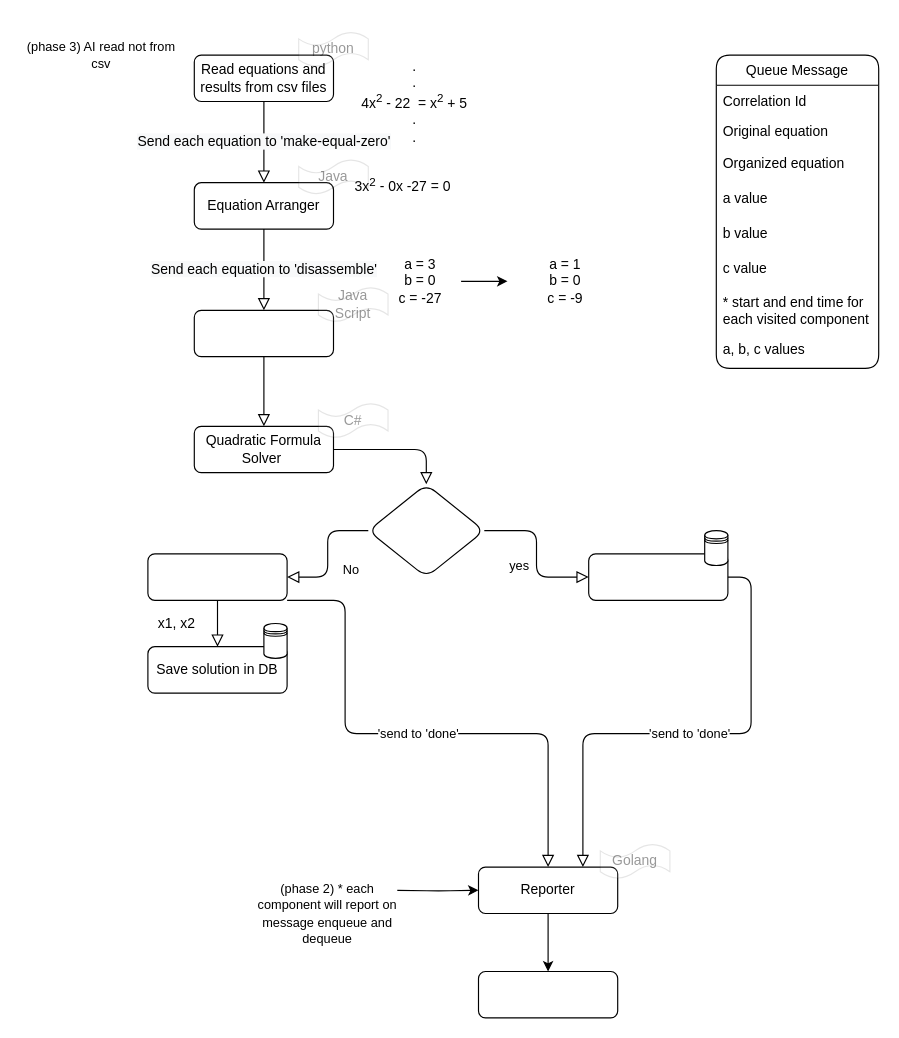
Image size: 899x1038. Some labels were removed from this diagram. Each missing label, with the centre of its shape:
"Calculates solution" belongs at pixel 217 576.
"Equation Disassembler" belongs at pixel 263 333.
"Generate timings report" belongs at pixel 547 994.
"Is Answer already exists in DB?" belongs at pixel 425 530.
"Take solution from DB" belongs at pixel 658 576.
